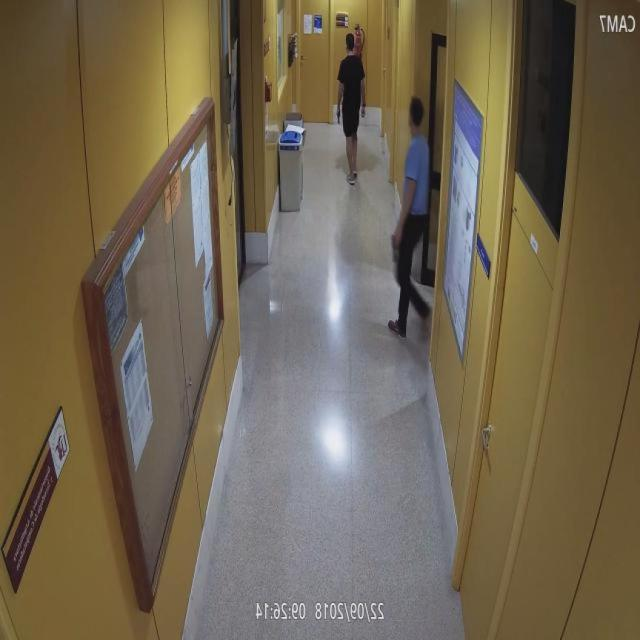pistol: (391, 226, 402, 265), (334, 106, 343, 124)
